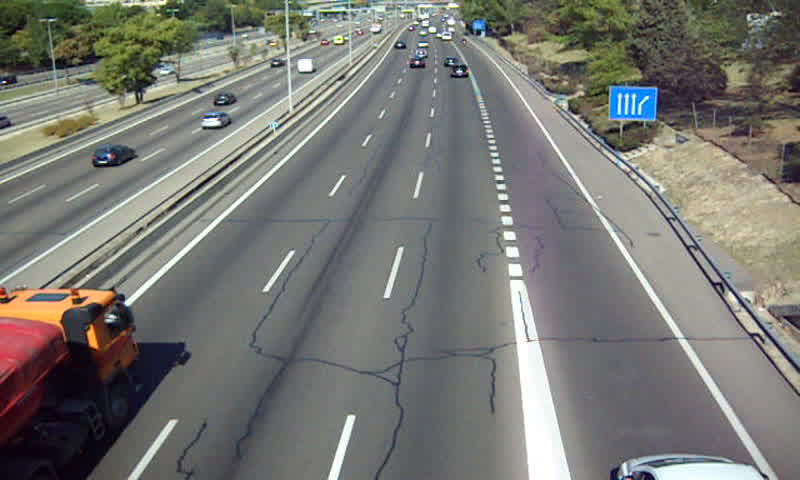car: (450, 64, 470, 79)
